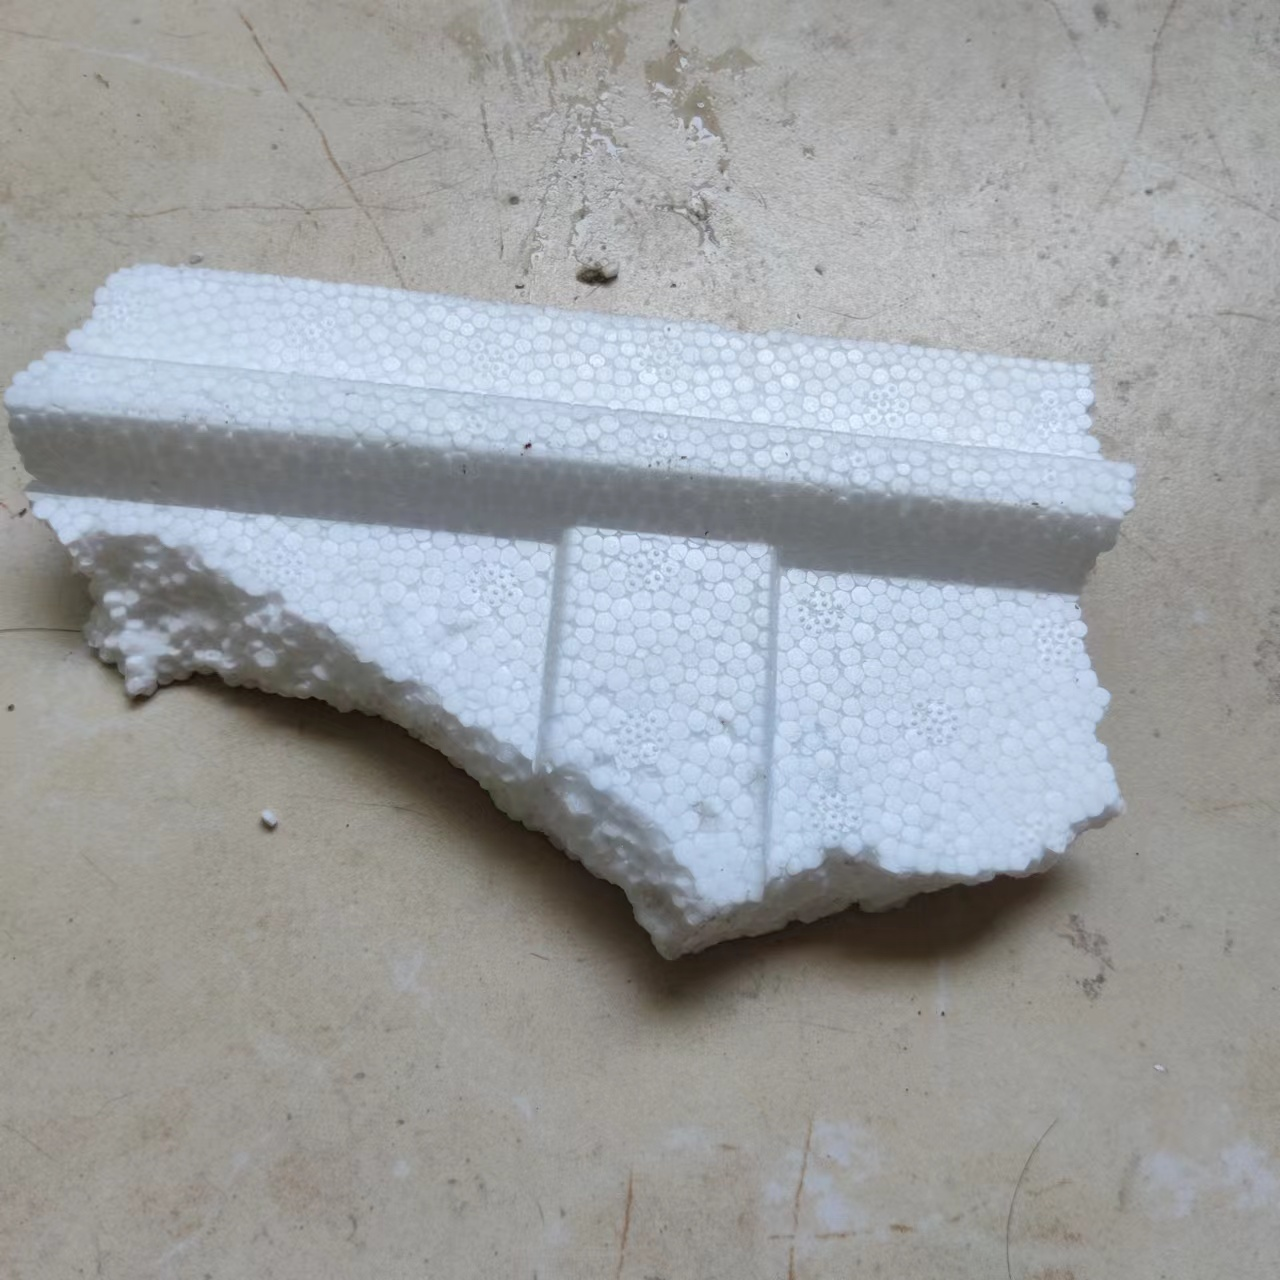5/可回收垃圾/泡沫: (2, 263, 1133, 958)
